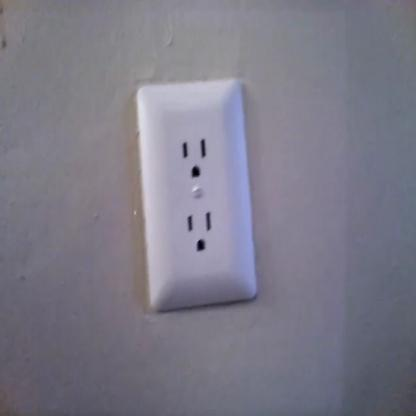OUTLET: (136, 84, 256, 302)
